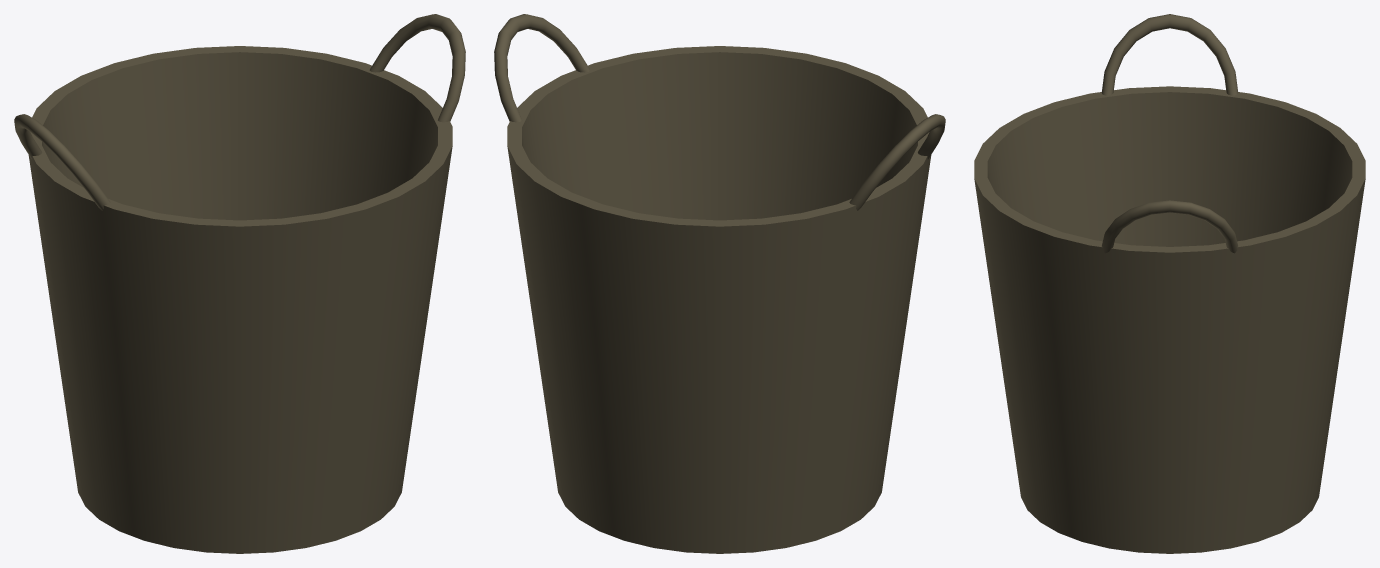
File: SM_Prop_Basket.fbx
3 views of the same model, side by side, from view 1: azimuth 30°, elevation 25°; view 2: azimuth 150°, elevation 25°; view 3: azimuth 270°, elevation 25° (orthographic). The views are drawn at different scales.
Visible parts, largest first — view 1: SM_Prop_Basket; view 2: SM_Prop_Basket; view 3: SM_Prop_Basket.
Boxes of the visible parts, bbox=[...] form: SM_Prop_Basket: bbox=[14, 14, 465, 553]; SM_Prop_Basket: bbox=[494, 14, 945, 553]; SM_Prop_Basket: bbox=[974, 14, 1365, 553].
Size of the model in its own units: 57.23 by 53.67 by 49.73.
